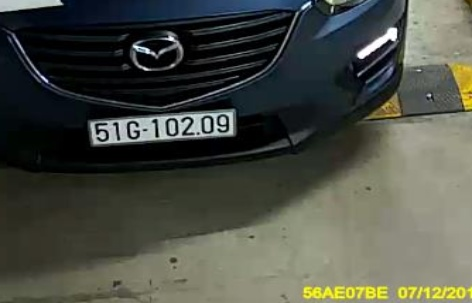plate: (82, 110, 249, 148)
